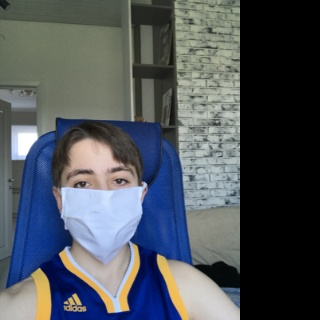with_mask: (59, 164, 144, 264)
